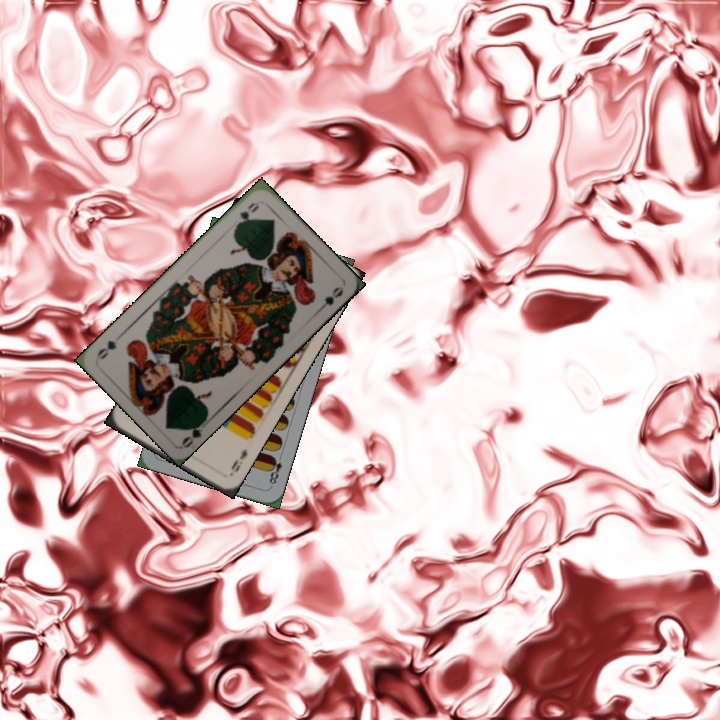E8: (265, 450, 285, 489)
E9: (226, 445, 250, 478)
GO: (178, 414, 210, 451), (232, 198, 262, 231)
